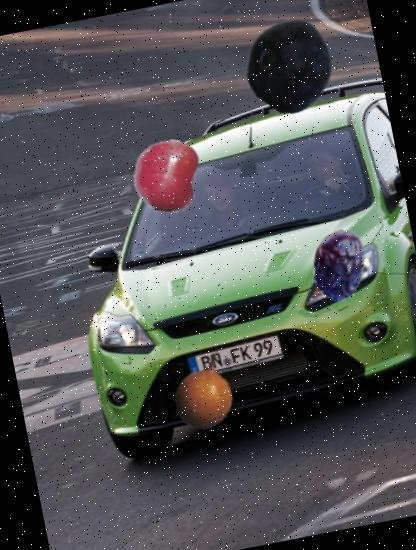Blueberry: (236, 10, 345, 118)
Cherry: (123, 132, 207, 216)
Dates: (296, 222, 382, 308)
Granadilla: (157, 340, 254, 436)
